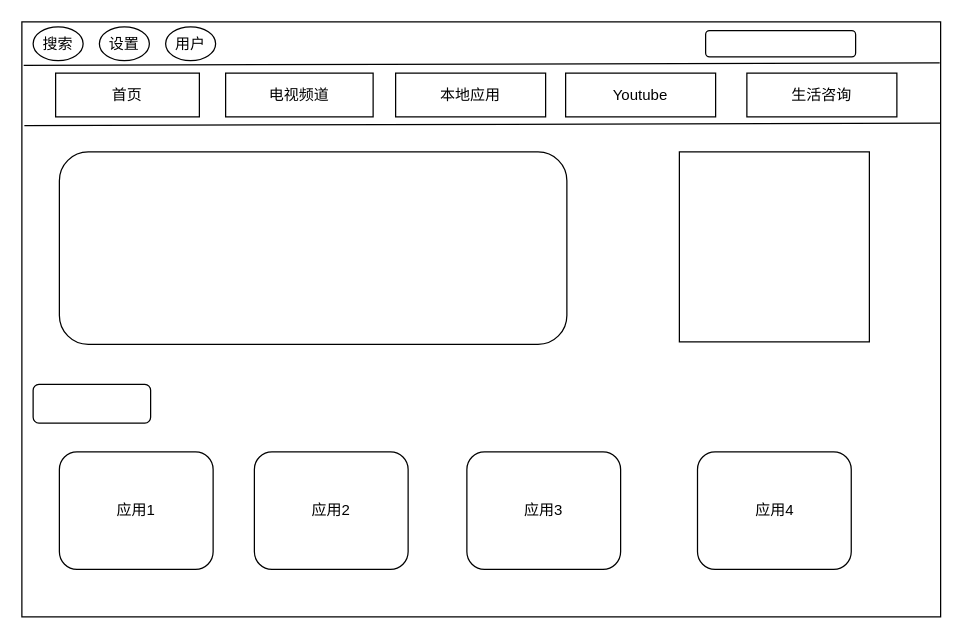
This 964x639 diagram has some shape labels left out. The shapes that lost their labels are listed below. From the top down, each one's box as (x1, y1, x2, y2) in pixels, then its label:
(704, 29, 856, 57): 天气信息
(58, 151, 567, 344): 咨询推荐
(678, 151, 869, 342): 热点信息
(32, 383, 151, 423): 常用程序
